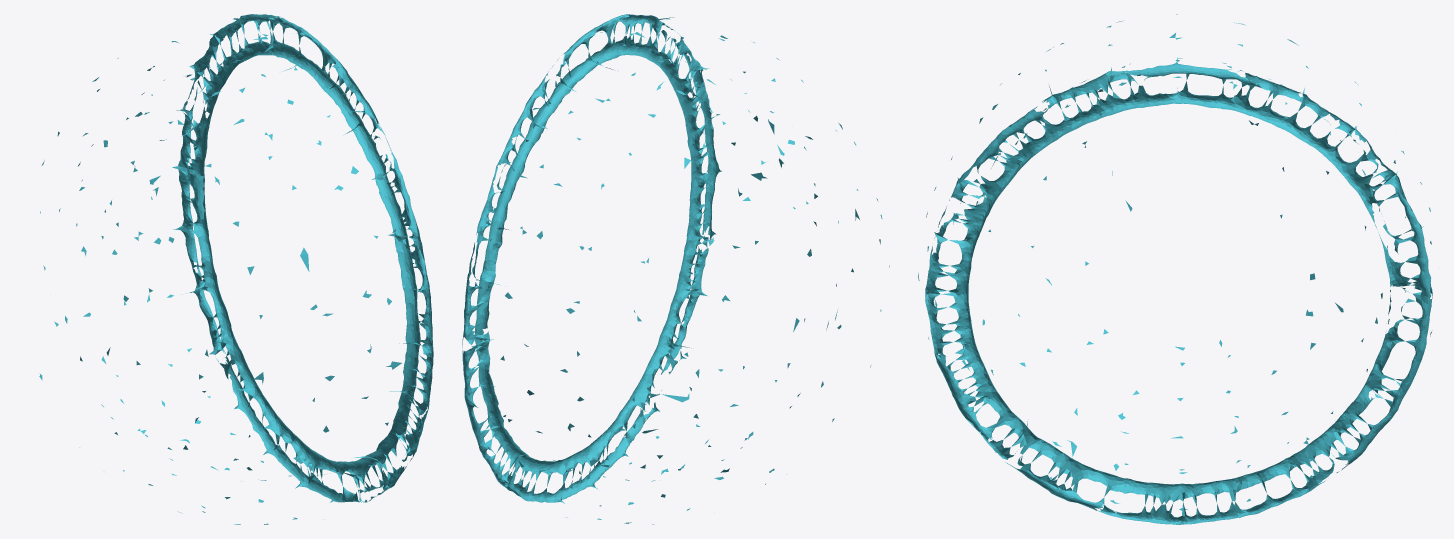
The picture shows the model from 3 angles, left to right: view 1: azimuth 30°, elevation 25°; view 2: azimuth 150°, elevation 25°; view 3: azimuth 270°, elevation 25°; orthographic projection.
Visible parts, largest first — view 1: Renderer Node; view 2: Renderer Node; view 3: Renderer Node.
Boxes of the visible parts, <box> form: Renderer Node: <box>39,14,433,524</box>; Renderer Node: <box>462,14,889,524</box>; Renderer Node: <box>918,14,1432,524</box>.
Size of the model in its own units: 0.3827 by 0.6464 by 0.6467.
1 material, 1 textured.
